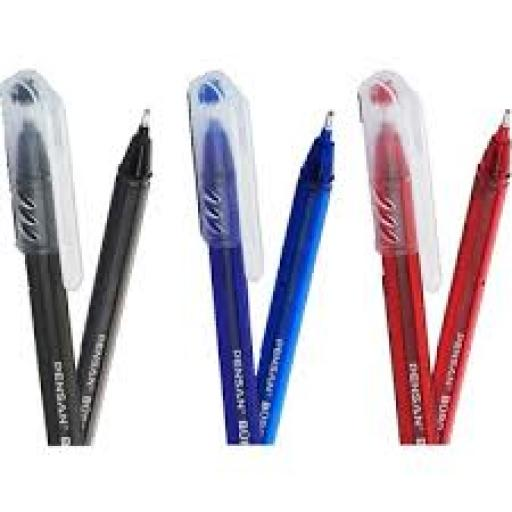tukenmez-kalem: (337, 41, 512, 407), (174, 52, 338, 404), (0, 58, 164, 399)
